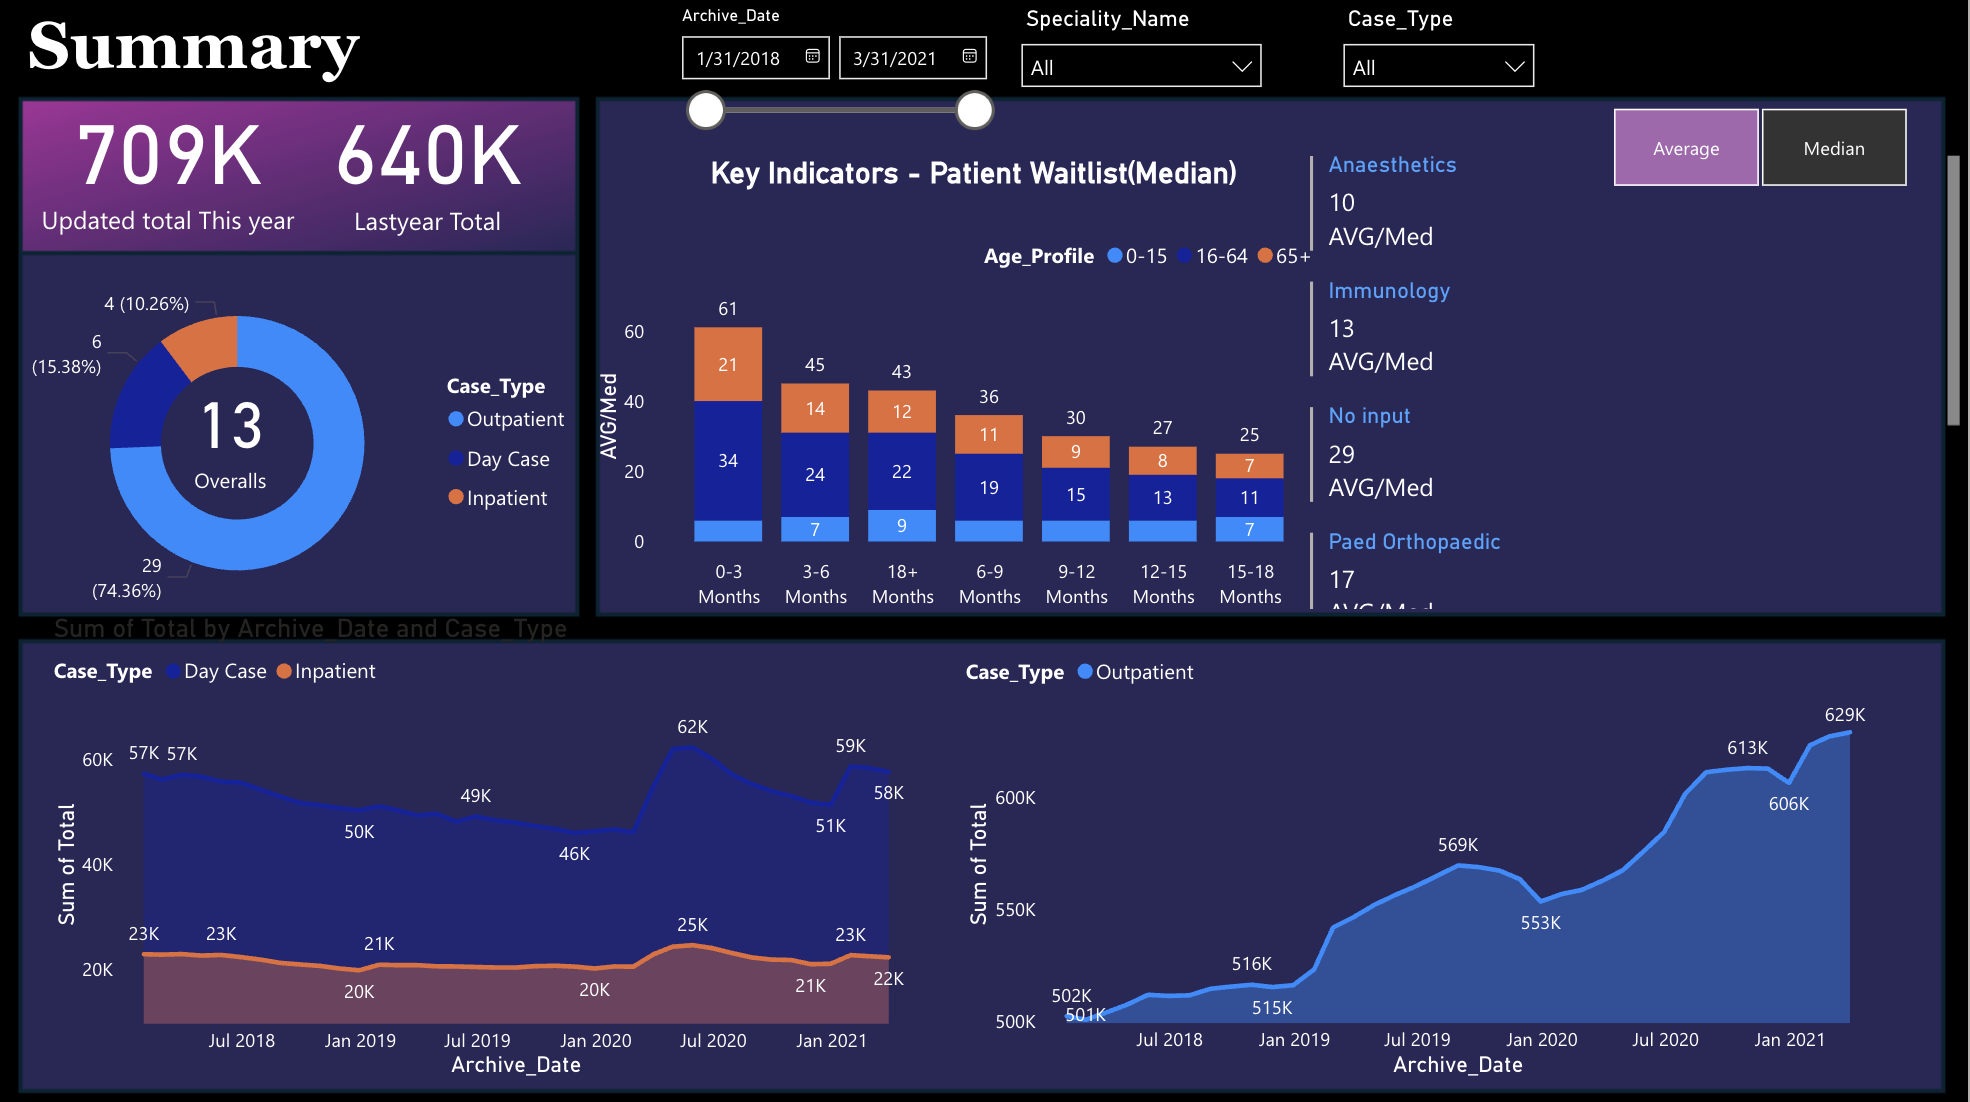

This screenshot's page, from the dashboard's own definition file:
{"tool":"powerbi","page":{"name":"Summary","canvas":[1280,720],"ordinal":0},"visuals":[{"type":"card","fields":{"Values":["All data.Updated total"]},"box":[16,48,192,112],"z":0},{"type":"card","fields":{"Values":["All data.Lastyear Total"]},"box":[192,32,176,144],"z":1000},{"type":"slicer","fields":{"Values":["Table.Calculation "]},"box":[1024,64,240,64],"z":2000},{"type":"donutChart","fields":{"Category":["All data.Case_Type"],"Y":["All data.AVG/Med"]},"box":[16,160,368,256],"z":3000},{"type":"columnChart","fields":{"Y":["All data.AVG/Med"],"Category":["All data.Time_Bands"],"Series":["All data.Age_Profile"]},"box":[383.8,145.3,480.2,256.9],"z":4000},{"type":"multiRowCard","fields":{"Values":["All data.Specialty_Name","All data.AVG/Med"]},"box":[848,96,432,304],"z":5000},{"type":"lineChart","fields":{"Category":["All data.Archive_Date"],"Y":["Sum(All data.Total)"],"Series":["All data.Case_Type"]},"box":[32,400,576,304],"z":6000},{"type":"lineChart","fields":{"Category":["All data.Archive_Date"],"Y":["Sum(All data.Total)"],"Series":["All data.Case_Type"]},"box":[624,416,608,288],"z":7000},{"type":"slicer","fields":{"Values":["All data.Archive_Date"]},"box":[432,0,224,96],"z":8000},{"type":"slicer","fields":{"Values":["All data.Case_Type"]},"box":[864,0,144,64],"z":9000},{"type":"slicer","fields":{"Values":["All data.Speciality_Name"]},"box":[656,0,176,64],"z":10000},{"type":"textbox","box":[0,32,288,96],"z":11000},{"type":"textbox","box":[16,0,304,96],"z":12000},{"type":"card","fields":{"Values":["All data.AVG/Med"]},"box":[96,224,112,112],"z":13000},{"type":"card","fields":{"Values":["All data.Dynamic Title"]},"box":[405.3,79.5,458.8,65.8],"z":14000}]}

Visuals, with their boxes in screenshot pixels (x1, y1, x2, y2), scaled from the page's 1280x720 canvas onto the 1970x1102 screenshot:
card - All data.Updated total: <bbox>25, 73, 320, 245</bbox>
card - All data.Lastyear Total: <bbox>296, 49, 566, 269</bbox>
slicer - Table.Calculation : <bbox>1576, 98, 1945, 196</bbox>
donutChart - All data.Case_Type x All data.AVG/Med: <bbox>25, 245, 591, 637</bbox>
columnChart - All data.AVG/Med x All data.Time_Bands: <bbox>591, 222, 1330, 616</bbox>
multiRowCard - All data.Specialty_Name x All data.AVG/Med: <bbox>1305, 147, 1969, 612</bbox>
lineChart - All data.Archive_Date x Sum(All data.Total): <bbox>49, 612, 936, 1078</bbox>
lineChart - All data.Archive_Date x Sum(All data.Total): <bbox>960, 637, 1896, 1078</bbox>
slicer - All data.Archive_Date: <bbox>665, 0, 1010, 147</bbox>
slicer - All data.Case_Type: <bbox>1330, 0, 1551, 98</bbox>
slicer - All data.Speciality_Name: <bbox>1010, 0, 1280, 98</bbox>
textbox: <bbox>0, 49, 443, 196</bbox>
textbox: <bbox>25, 0, 492, 147</bbox>
card - All data.AVG/Med: <bbox>148, 343, 320, 514</bbox>
card - All data.Dynamic Title: <bbox>624, 122, 1330, 222</bbox>
